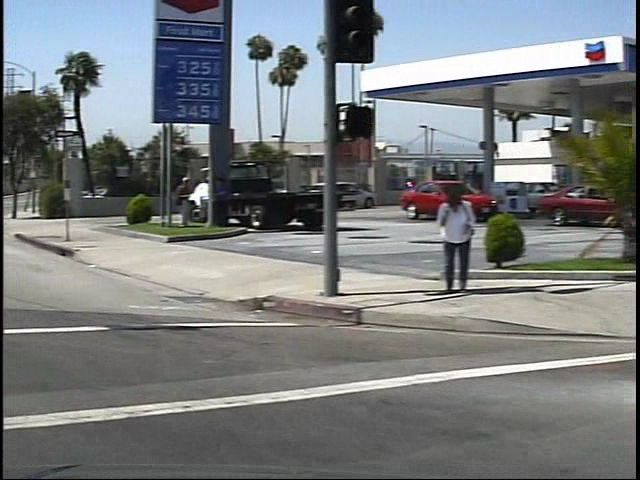person: (421, 181, 465, 296), (164, 173, 187, 231)
